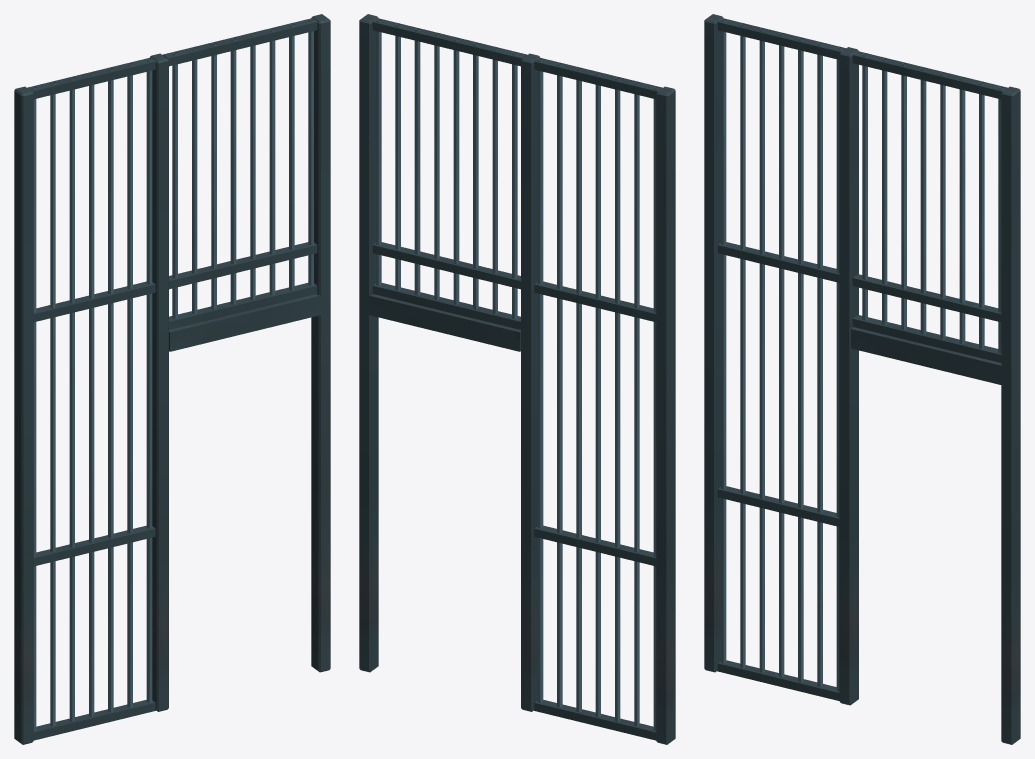
The model's file is bars_cell_door.fbx.
3 renders of one model, left to right at view 1: azimuth 30°, elevation 25°; view 2: azimuth 150°, elevation 25°; view 3: azimuth 330°, elevation 25°, orthographic.
Parts seen in each view (by area): view 1: bars_cell_door; view 2: bars_cell_door; view 3: bars_cell_door.
Boxes of the visible parts, x1=… form: bars_cell_door: x1=14, y1=14, x2=330, y2=744; bars_cell_door: x1=359, y1=14, x2=675, y2=744; bars_cell_door: x1=704, y1=14, x2=1020, y2=744.
Bounding box in the file's own units: 1.99 × 4 × 0.1.
Materials: 1 (1 with a texture image).
